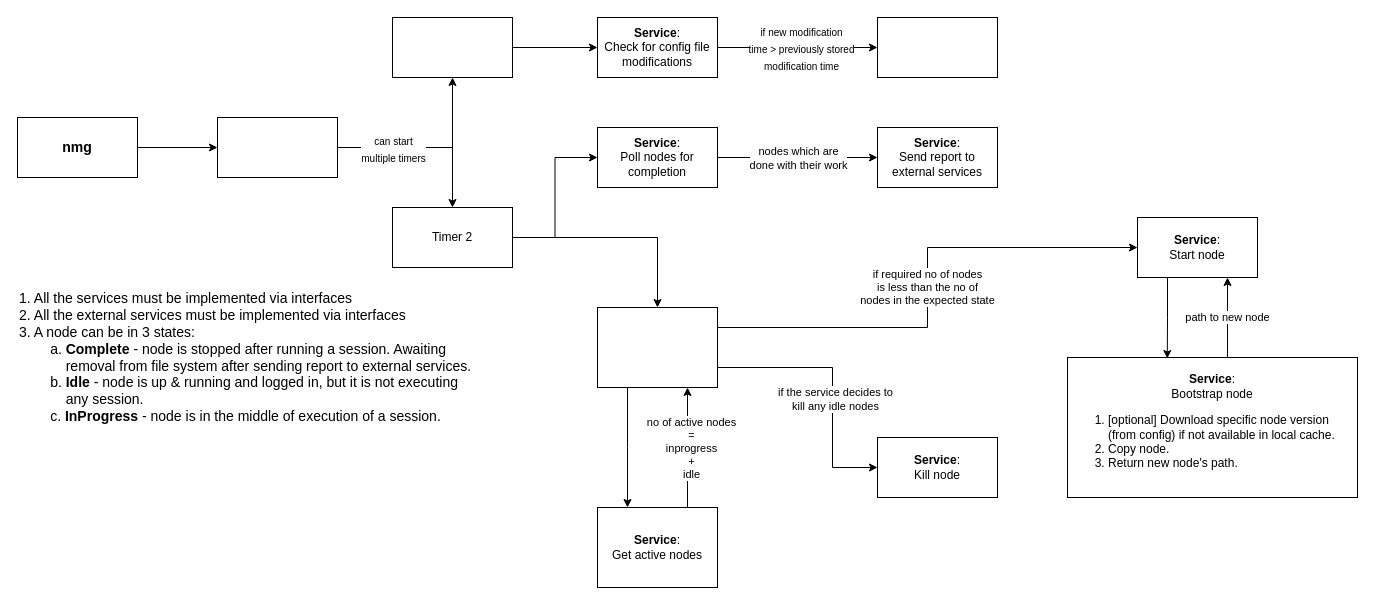
Image size: 1375x605. Some labels were removed from this diagram. The centre of each missing label's shape, as x and y in pixels:
"Load new config into ConfigStore" goes at pixel 937 47.
"Service : Poll node states and try to match the configured state" goes at pixel 657 347.
"Start timers" goes at pixel 277 147.
"Timer 1" goes at pixel 452 47.
